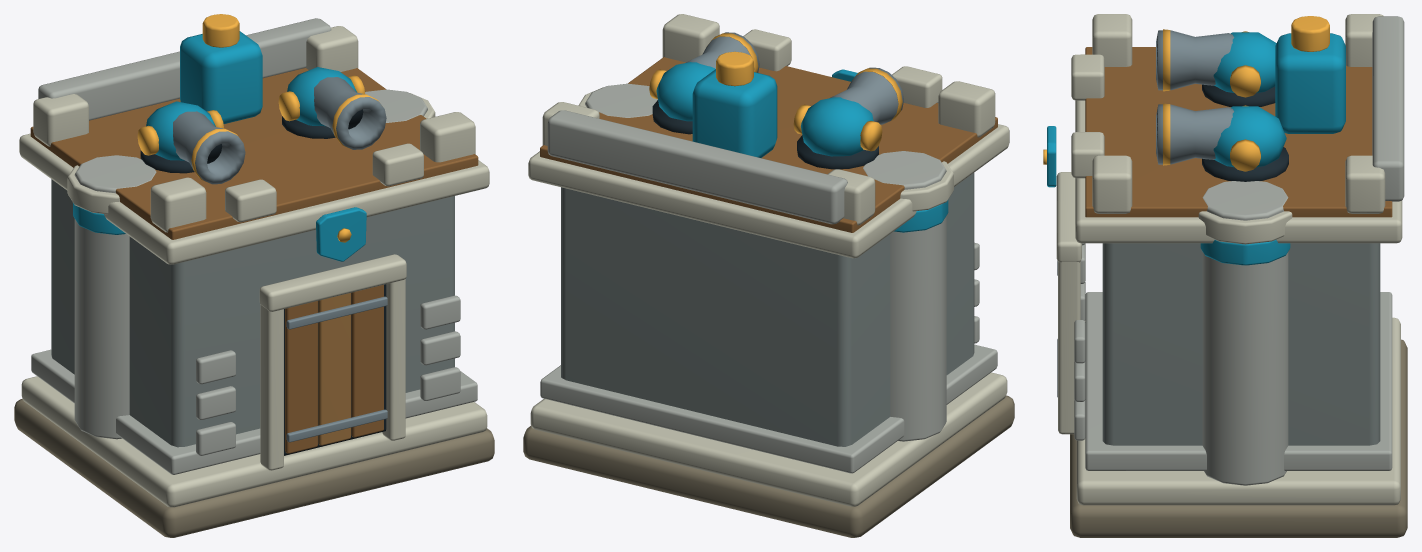
The model's file is home-core.glb.
The picture shows the model from 3 angles, left to right: view 1: azimuth 30°, elevation 25°; view 2: azimuth 150°, elevation 25°; view 3: azimuth 270°, elevation 25°; orthographic projection. The views are drawn at different scales.
Visible parts, largest first — view 1: home-core_TOY_BODY_VERTEX_COLOR, home-core_ARMOR_METAL_VERTEX_COLOR, home-core_TEAM_TEAL; view 2: home-core_TOY_BODY_VERTEX_COLOR, home-core_TEAM_TEAL, home-core_ARMOR_METAL_VERTEX_COLOR; view 3: home-core_TOY_BODY_VERTEX_COLOR, home-core_TEAM_TEAL, home-core_ARMOR_METAL_VERTEX_COLOR.
Boxes of the visible parts, bbox=[...] form: home-core_TOY_BODY_VERTEX_COLOR: bbox=[14, 18, 494, 537]; home-core_ARMOR_METAL_VERTEX_COLOR: bbox=[137, 14, 387, 442]; home-core_TEAM_TEAL: bbox=[73, 31, 366, 261]; home-core_TOY_BODY_VERTEX_COLOR: bbox=[523, 14, 1014, 537]; home-core_TEAM_TEAL: bbox=[656, 62, 948, 232]; home-core_ARMOR_METAL_VERTEX_COLOR: bbox=[649, 32, 903, 169]; home-core_TOY_BODY_VERTEX_COLOR: bbox=[1056, 14, 1407, 537]; home-core_TEAM_TEAL: bbox=[1047, 32, 1345, 265]; home-core_ARMOR_METAL_VERTEX_COLOR: bbox=[1043, 16, 1329, 397].
Size of the model in its own units: 3.32 by 3.59 by 2.74.
